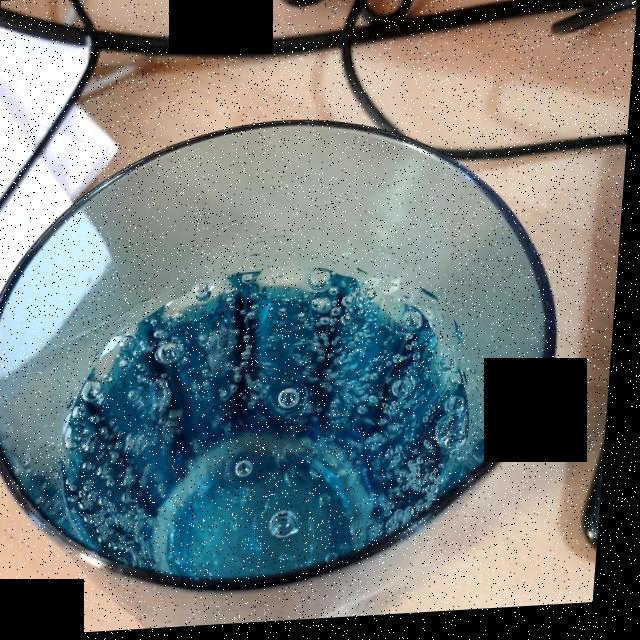water-mineral: (74, 272, 471, 581)
